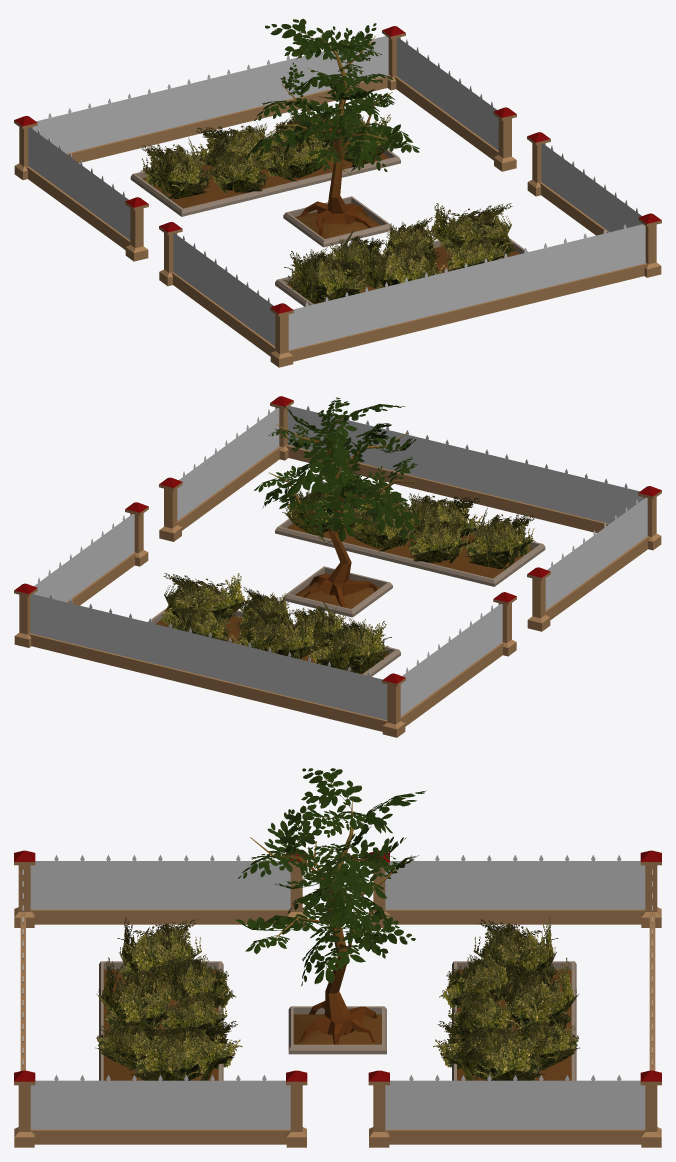
Rendered from Park.fbx.
3 renders of one model, top to bottom at view 1: azimuth 30°, elevation 25°; view 2: azimuth 150°, elevation 25°; view 3: azimuth 270°, elevation 25°, orthographic. The views are drawn at different scales.
Visible parts, largest first — view 1: Park; view 2: Park; view 3: Park.
Part boxes in pixels (x1,y1,x2,y2): Park: (14, 18, 661, 367); Park: (14, 396, 661, 737); Park: (14, 768, 661, 1147).
Size of the model in its own units: 2043 by 1017 by 2444.
